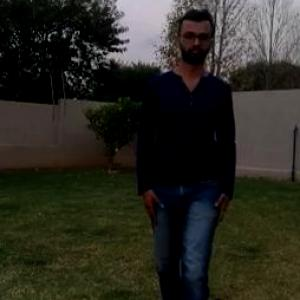follow: (143, 6, 231, 299)
